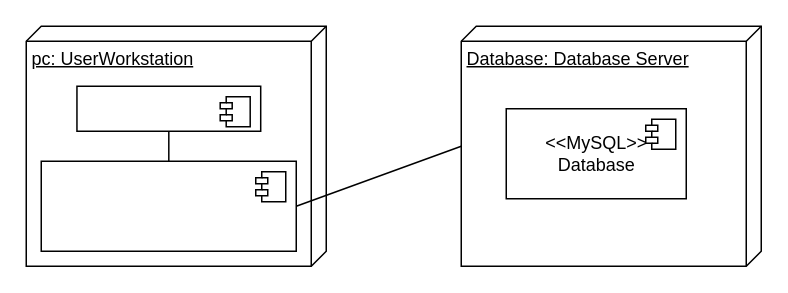
This 788x293 diagram has some shape labels left out. Here are the shapes that lost their labels. From the top down, the centre of each, then its label:
At point (168, 108): "Browser/UI".
At point (168, 205): "<<HTML/CSS/PHP>> Client-side frontend application".
